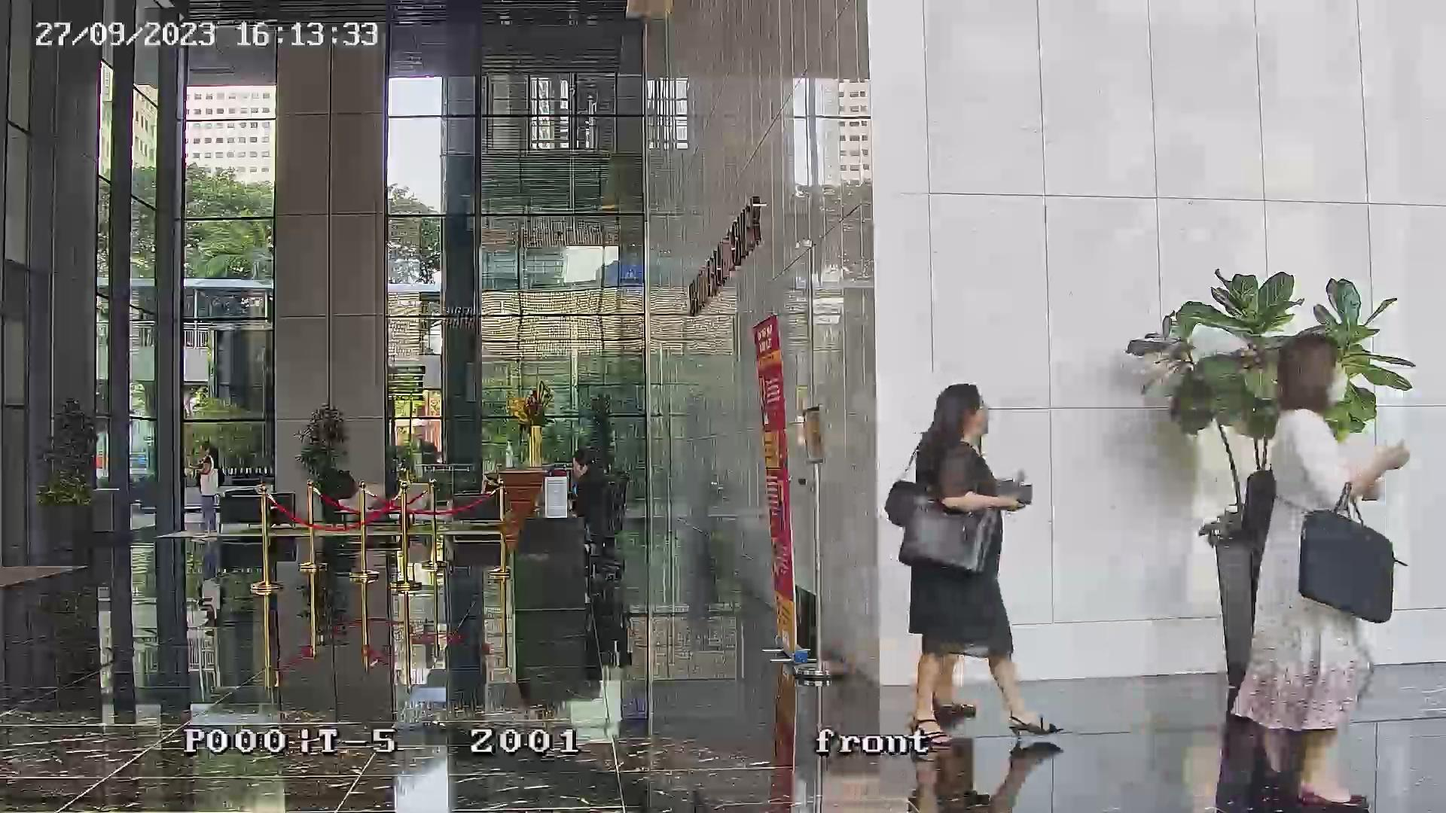person: (1216, 330, 1412, 807), (897, 383, 1057, 741), (568, 449, 613, 526), (191, 442, 225, 540)
